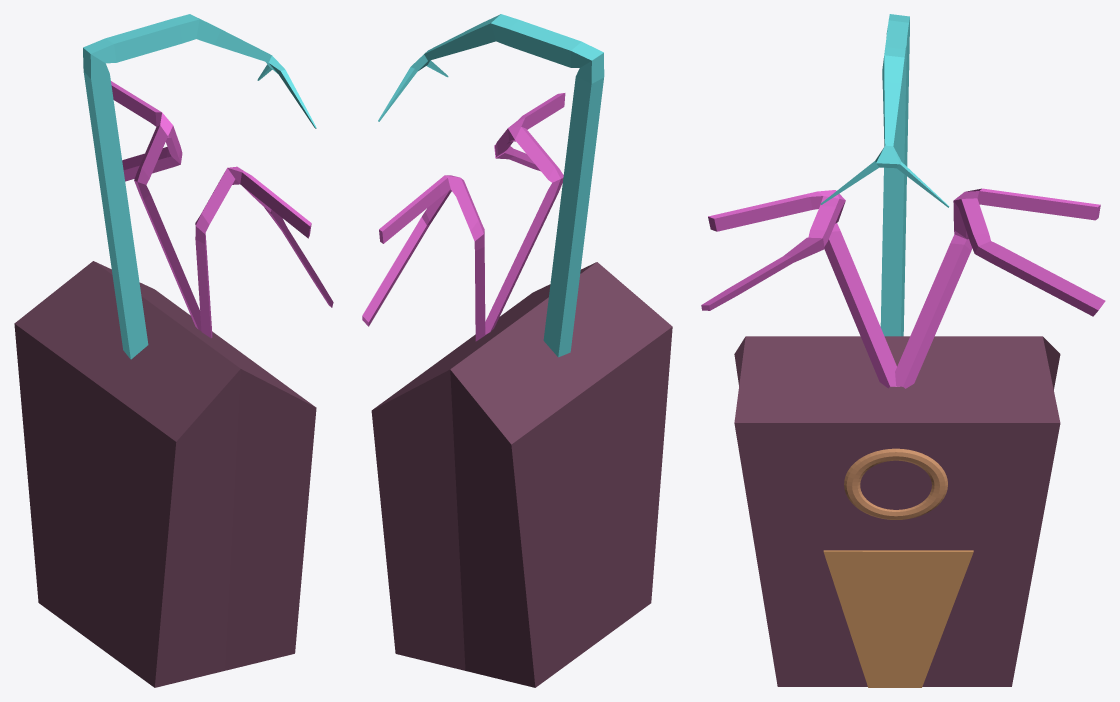
The model's file is BAT3.fbx.
The picture shows the model from 3 angles, left to right: view 1: azimuth 30°, elevation 25°; view 2: azimuth 150°, elevation 25°; view 3: azimuth 270°, elevation 25°; orthographic projection.
Parts seen in each view (by area): view 1: Cube, Cube.003, Cube.002; view 2: Cube, Cube.003, Cube.002; view 3: Cube, Cube.002, Cube.001, Cube.003, Torus.
Boxes of the visible parts, x1,y1,x2,y2 form: Cube: [14, 261, 316, 687]; Cube.003: [83, 14, 316, 359]; Cube.002: [111, 81, 333, 338]; Cube: [371, 262, 672, 687]; Cube.003: [378, 14, 604, 357]; Cube.002: [362, 93, 565, 341]; Cube: [734, 336, 1060, 686]; Cube.002: [701, 188, 1105, 388]; Cube.001: [823, 550, 973, 687]; Cube.003: [820, 14, 949, 336]; Torus: [844, 448, 947, 519].
Size of the model in its own units: 64.75 by 190 by 114.
